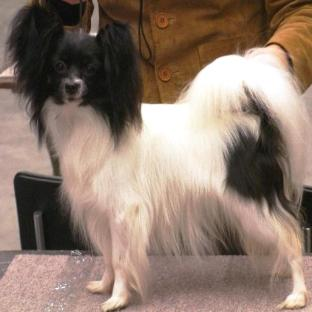Animal: (8, 1, 310, 310)
